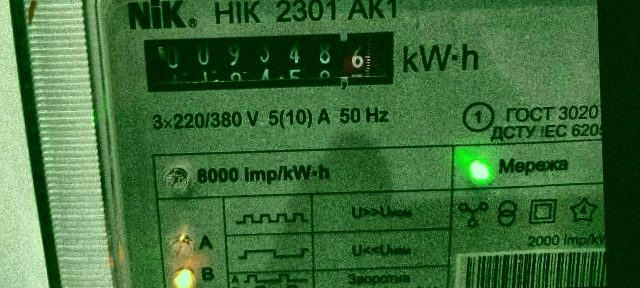0: (195, 41, 210, 64), (165, 42, 178, 68)
3: (255, 38, 270, 64)
4: (285, 37, 300, 64)
6: (348, 42, 366, 69)
8: (315, 37, 331, 65)
9: (224, 40, 240, 66)
screen: (133, 23, 404, 100)
